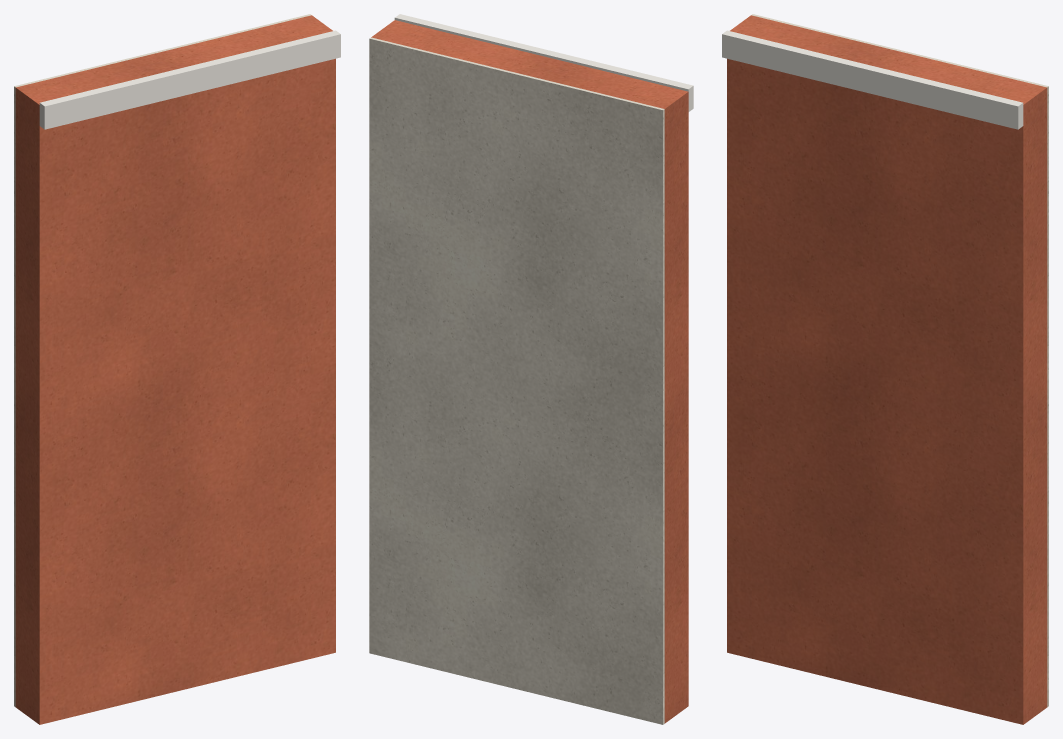
Rendered from wall_render_shop_plain.glb.
3 views of the same model, side by side, from view 1: azimuth 30°, elevation 25°; view 2: azimuth 150°, elevation 25°; view 3: azimuth 330°, elevation 25° (orthographic).
Visible parts, largest first — view 1: wall_render_shop_plain_render, wall_render_shop_plain_trim, wall_render_shop_plain_plaster; view 2: wall_render_shop_plain_plaster, wall_render_shop_plain_render, wall_render_shop_plain_trim; view 3: wall_render_shop_plain_render, wall_render_shop_plain_trim, wall_render_shop_plain_plaster.
Boxes of the visible parts, bbox=[...] form: wall_render_shop_plain_render: bbox=[15, 15, 335, 724]; wall_render_shop_plain_trim: bbox=[39, 30, 340, 129]; wall_render_shop_plain_plaster: bbox=[14, 14, 311, 706]; wall_render_shop_plain_plaster: bbox=[369, 37, 664, 724]; wall_render_shop_plain_render: bbox=[371, 20, 688, 723]; wall_render_shop_plain_trim: bbox=[394, 14, 693, 111]; wall_render_shop_plain_render: bbox=[727, 15, 1047, 724]; wall_render_shop_plain_trim: bbox=[722, 30, 1023, 129]; wall_render_shop_plain_plaster: bbox=[751, 14, 1048, 706].
Bounding box in the file's own units: 2 × 4.01 × 0.36.
Materials: 3 (2 with a texture image).
